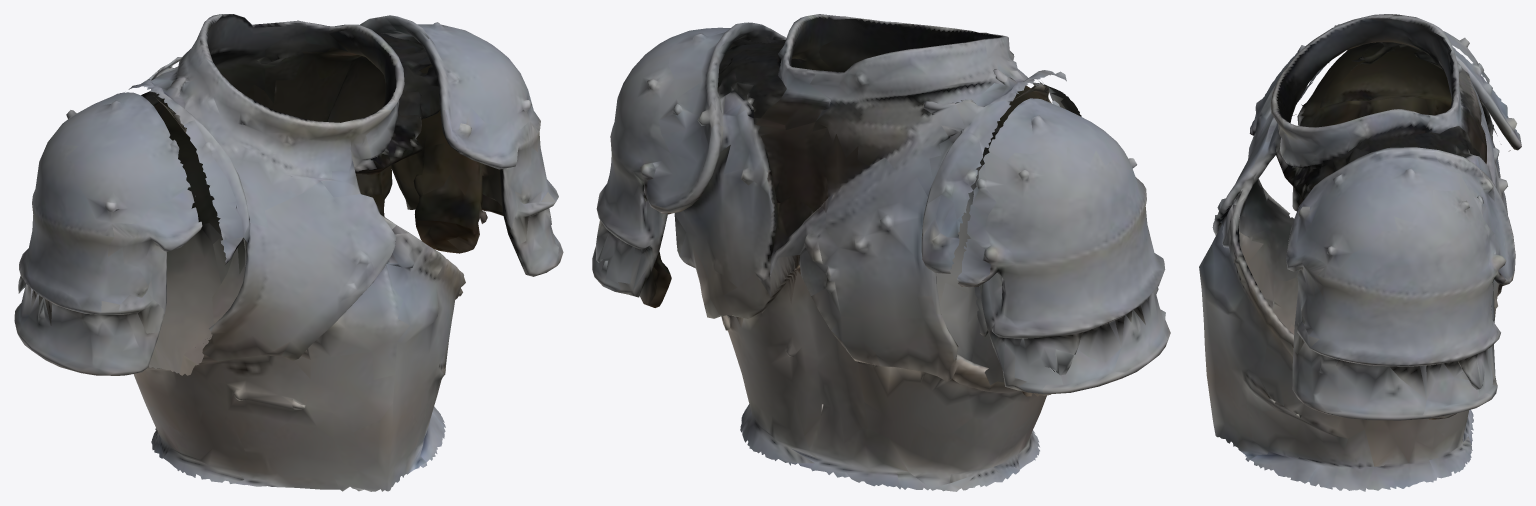
Rendered from plate-cuirass-prepped.glb.
The picture shows the model from 3 angles, left to right: view 1: azimuth 30°, elevation 25°; view 2: azimuth 150°, elevation 25°; view 3: azimuth 270°, elevation 25°; orthographic projection. The views are drawn at different scales.
Parts seen in each view (by area): view 1: cuirass; view 2: cuirass; view 3: cuirass.
Boxes of the visible parts, left/top/right/bottom form: cuirass: left=14, top=14, right=563, bottom=491; cuirass: left=592, top=14, right=1170, bottom=491; cuirass: left=1199, top=14, right=1521, bottom=491.
Bounding box in the file's own units: 0.7413 × 0.5602 × 0.4295.
1 material, 1 textured.
